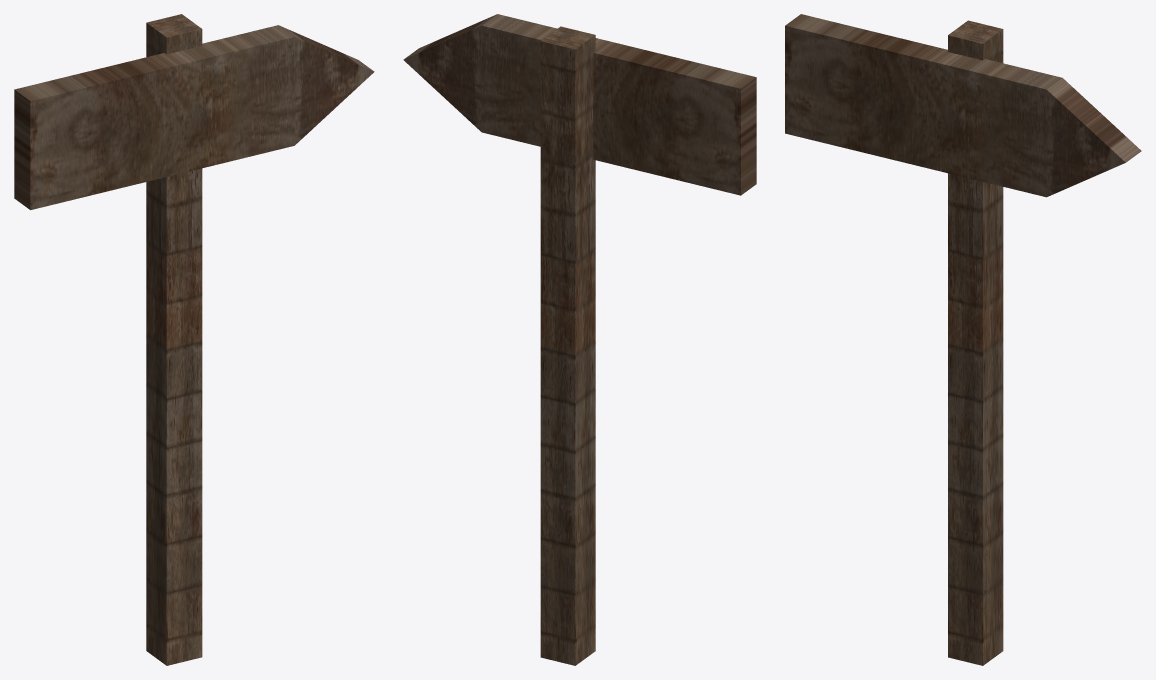
File: WoodenSign_Right.fbx
The picture shows the model from 3 angles, left to right: view 1: azimuth 30°, elevation 25°; view 2: azimuth 150°, elevation 25°; view 3: azimuth 330°, elevation 25°; orthographic projection.
Parts seen in each view (by area): view 1: WoodenSign_Right; view 2: WoodenSign_Right; view 3: WoodenSign_Right.
Part boxes in pixels (x1,y1,x2,y2): WoodenSign_Right: (14,14,374,665); WoodenSign_Right: (403,14,756,665); WoodenSign_Right: (785,14,1141,665).
Bounding box in the file's own units: 0.86 × 1.5 × 0.1493.
1 material, 1 textured.
